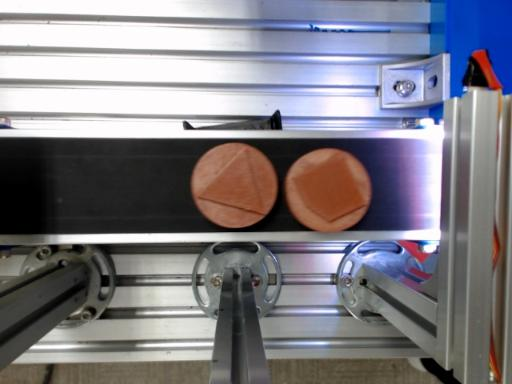Brown_Waper: (191, 142, 278, 228), (285, 148, 371, 231)
